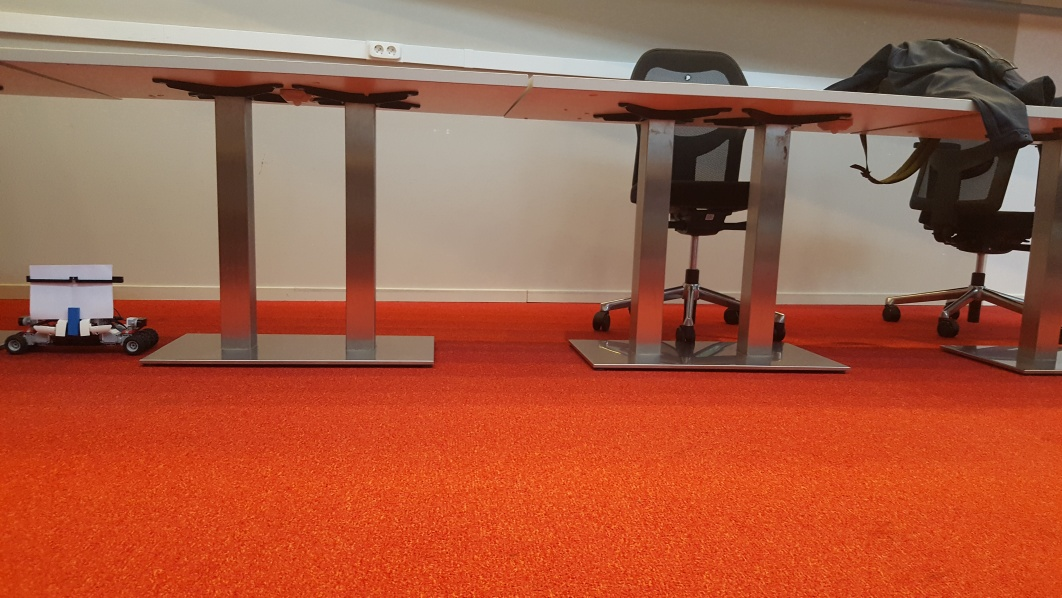car: (7, 266, 160, 356)
